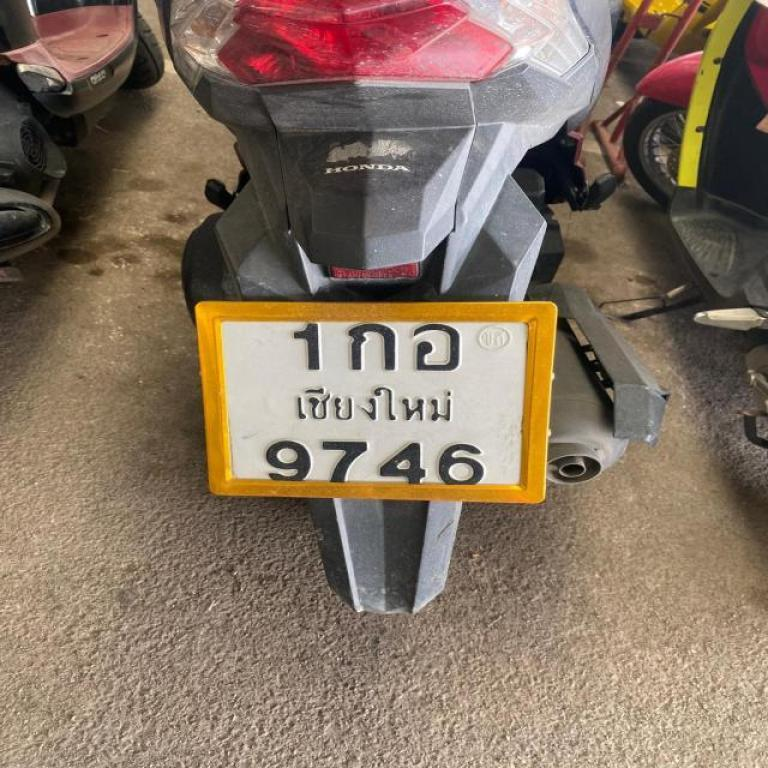license plate: (198, 304, 556, 502)
